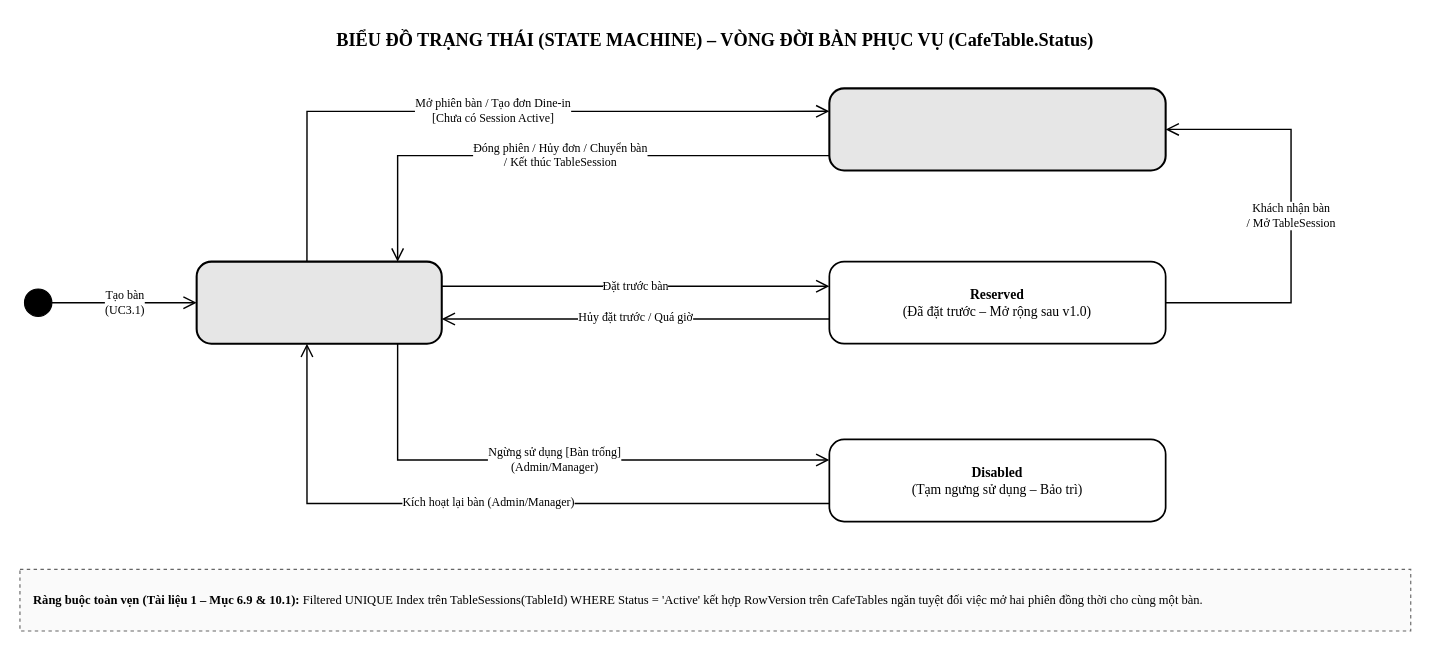
Some shapes in this 1431 by 651 pixel diagram are drawn without their labels. Each missing label, with the centre of its shape:
"Available (Bàn trống – Sẵn sàng)" belongs at point 318,302.
"Occupied (Đang phục vụ – 01 TableSession Active)" belongs at point 997,129.
